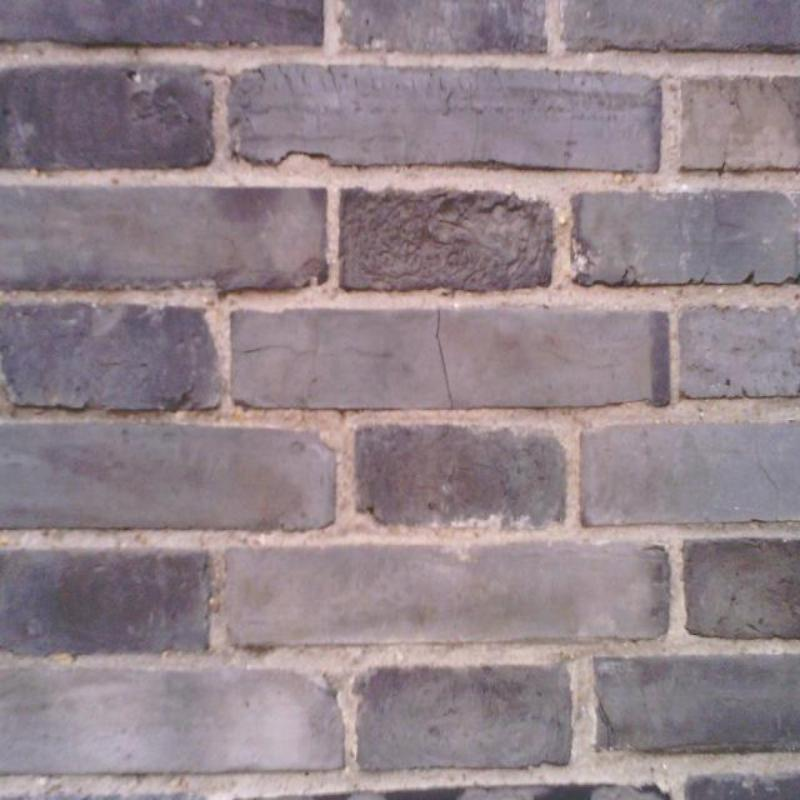crack: (434, 308, 454, 409)
